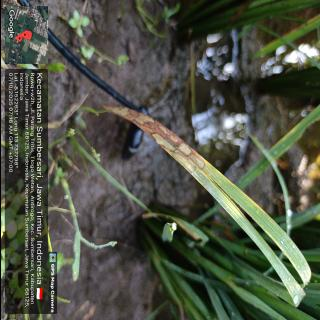Blast: (171, 151, 195, 174), (151, 133, 175, 152), (133, 112, 153, 125), (189, 153, 203, 169), (173, 143, 190, 156), (110, 108, 130, 116), (157, 126, 169, 135), (169, 135, 178, 143)
